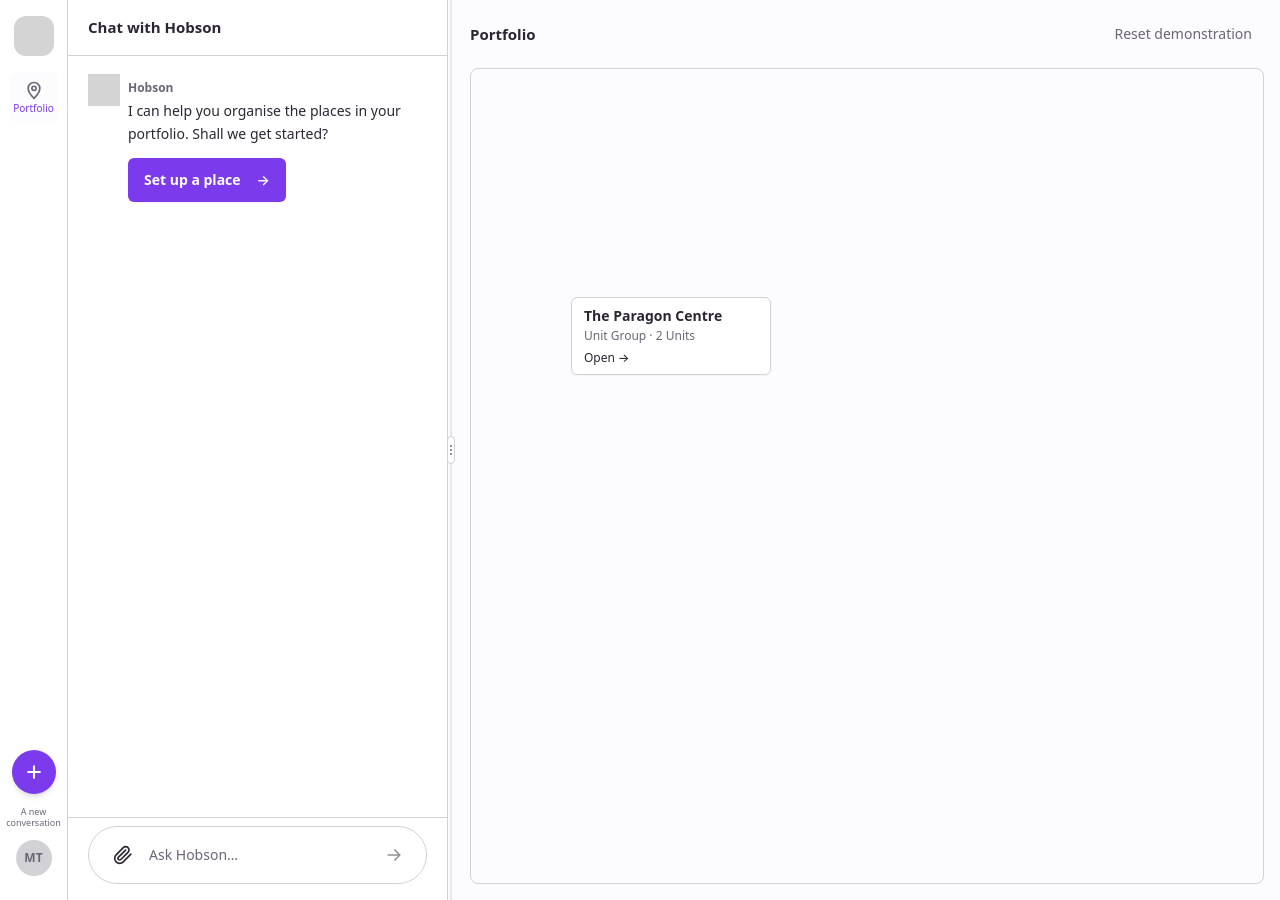
it: Prototype Unit opening setup › finishes the opening interaction for A Unit Group with several Units without creating records
What coordinates should you click on to do the following:
click the button "Set up a place →"
I would click on:
 (207, 180)
Its box is top-left (128, 158), bottom-right (286, 202).
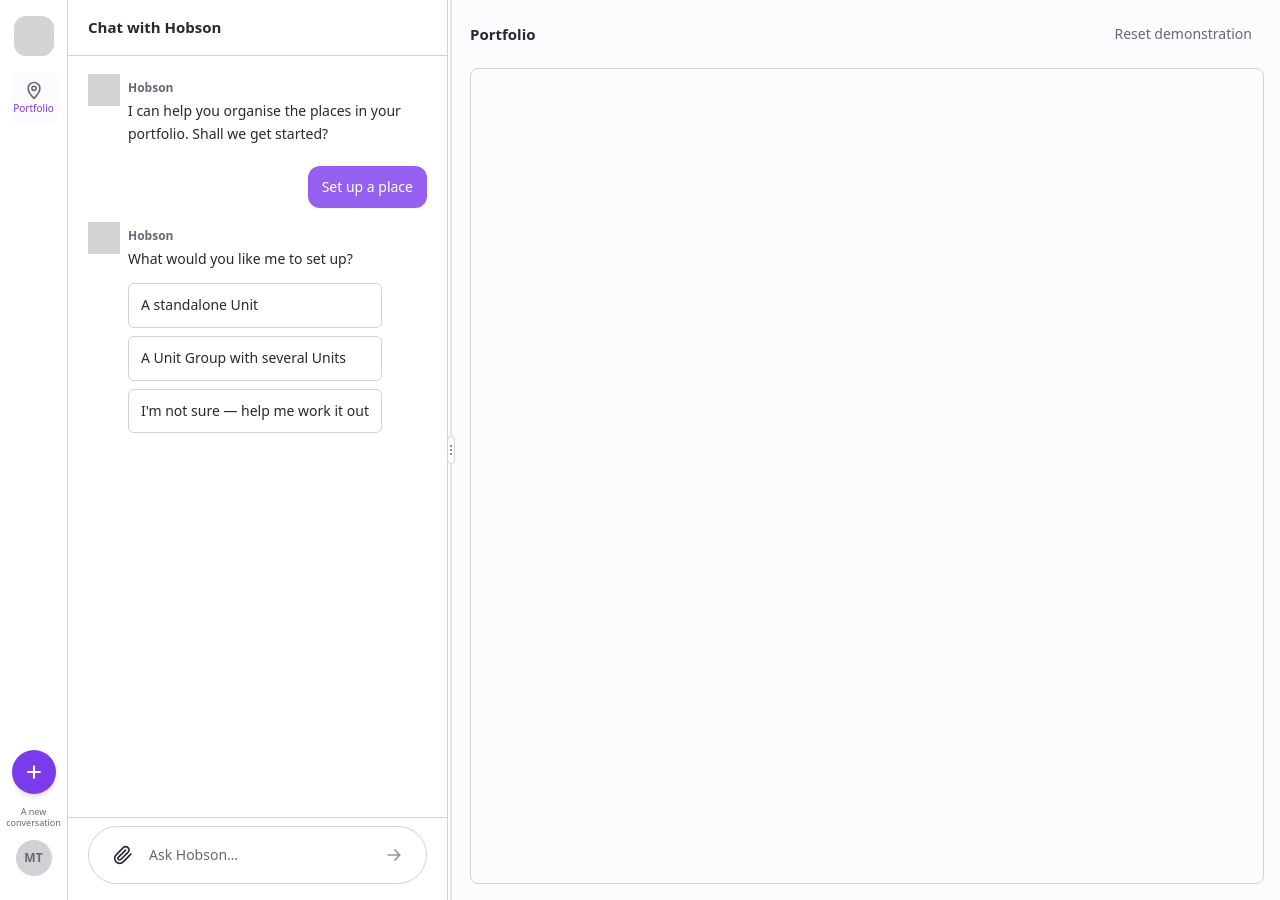
What coordinates should you click on to do the following:
click the button "A Unit Group with several Units"
I would click on:
 (255, 358)
Its box is top-left (128, 336), bottom-right (382, 381).
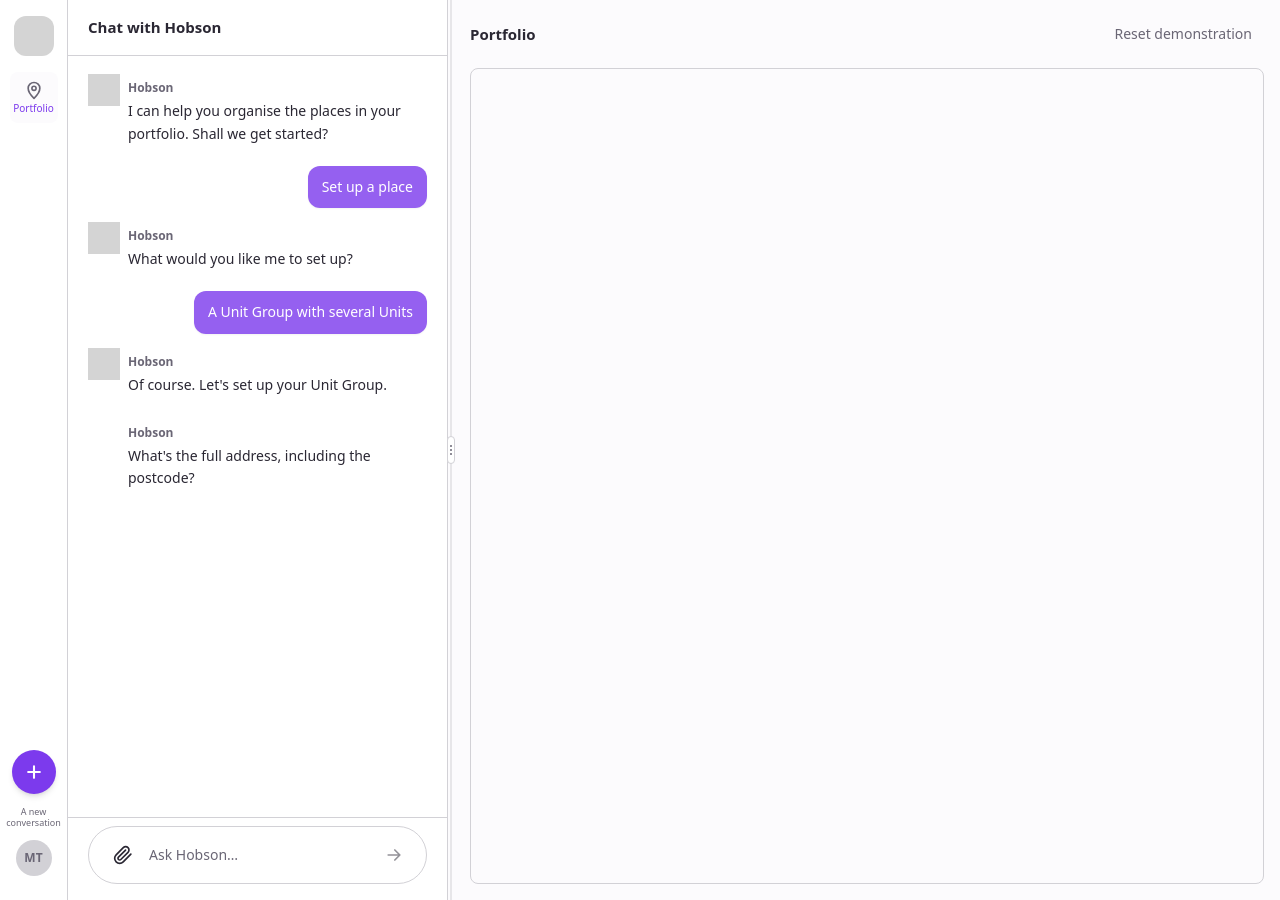
Check: the number of fields is 1, box top-left (149, 845), bottom-right (370, 865)
Check: no the button "A standalone Unit" are shown
